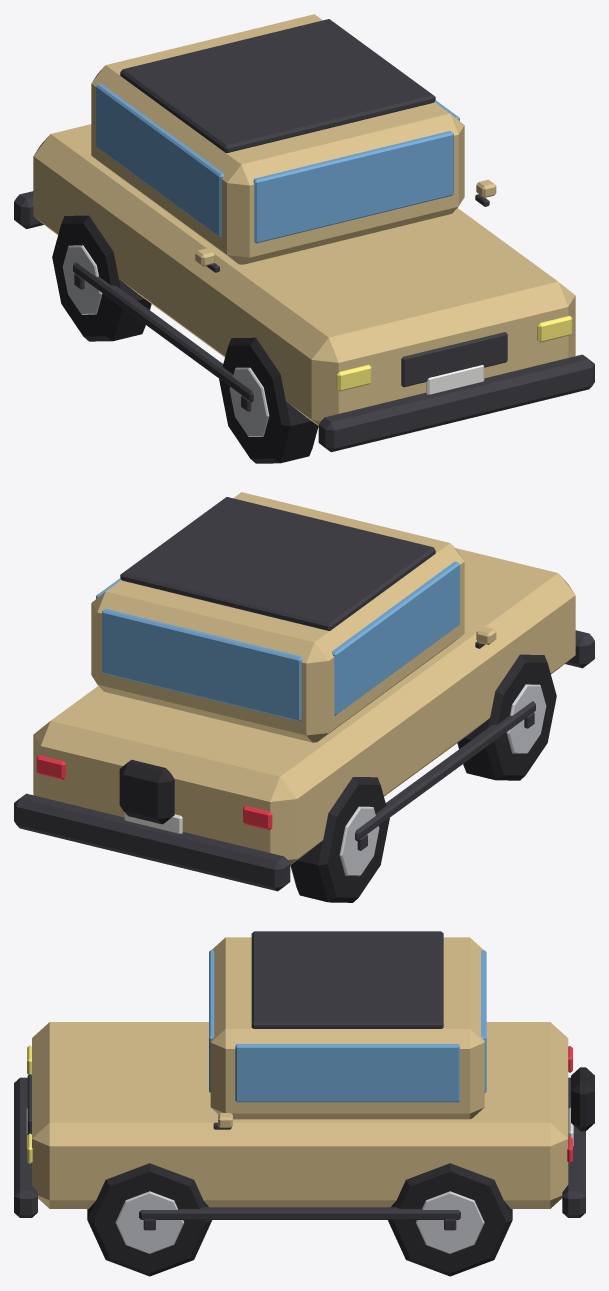
File: TanJeep.fbx
The picture shows the model from 3 angles, top to bottom: view 1: azimuth 30°, elevation 25°; view 2: azimuth 150°, elevation 25°; view 3: azimuth 270°, elevation 25°; orthographic projection. The views are drawn at different scales.
Visible parts, largest first — view 1: TanJeep, TanJeep_WheelFR, TanJeep_WheelBR; view 2: TanJeep, TanJeep_WheelBR, TanJeep_WheelFR; view 3: TanJeep, TanJeep_WheelFL, TanJeep_WheelBL.
Boxes of the visible parts, left/top/right/bottom form: TanJeep: left=14, top=14, right=594, bottom=452; TanJeep_WheelFR: left=219, top=337, right=318, bottom=463; TanJeep_WheelBR: left=52, top=215, right=151, bottom=341; TanJeep: left=14, top=492, right=594, bottom=891; TanJeep_WheelBR: left=290, top=777, right=389, bottom=902; TanJeep_WheelFR: left=457, top=654, right=556, bottom=780; TanJeep: left=14, top=931, right=594, bottom=1219; TanJeep_WheelFL: left=87, top=1163, right=211, bottom=1276; TanJeep_WheelBL: left=388, top=1163, right=512, bottom=1276.
Size of the model in its own units: 5.15 by 4.48 by 9.75.
1 material, 1 textured.
